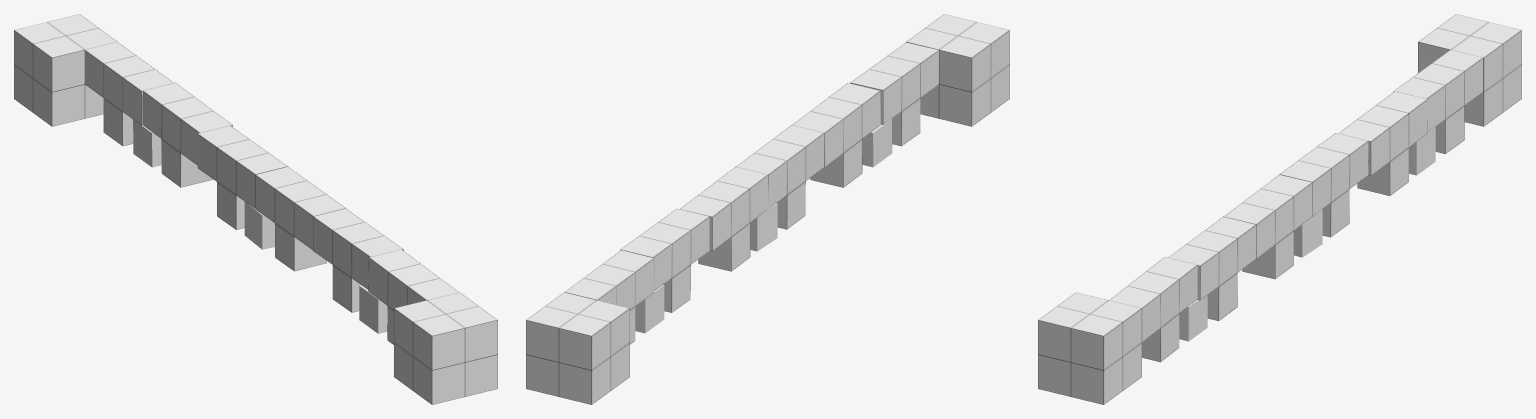
3 renders of one model, left to right at view 1: azimuth 30°, elevation 25°; view 2: azimuth 150°, elevation 25°; view 3: azimuth 330°, elevation 25°, orthographic.
Visible parts, largest first — view 1: Plane/BasicEnvironment/StartCube-1, Plane/BasicEnvironment/StartCube-2, GridTShape_0:5, GridTShape_0:1, GridTShape_0, GridTShape_0:2, GridTShape_0:4, GridTShape_0:3, GridSmallCube_0:1, GridSmallCube_0:2, GridSmallCube_0; view 2: Plane/BasicEnvironment/StartCube-2, Plane/BasicEnvironment/StartCube-1, GridTShape_0:2, GridTShape_0:4, GridTShape_0:3, GridTShape_0:5, GridTShape_0:1, GridTShape_0, GridSmallCube_0:2, GridSmallCube_0, GridSmallCube_0:1; view 3: Plane/BasicEnvironment/StartCube-1, Plane/BasicEnvironment/StartCube-2, GridTShape_0:1, GridTShape_0:5, GridTShape_0:3, GridTShape_0:4, GridTShape_0, GridTShape_0:2, GridSmallCube_0:2, GridSmallCube_0:1, GridSmallCube_0.
Part boxes in pixels (left/top/right/bottom): Plane/BasicEnvironment/StartCube-1: left=394, top=292, right=497, bottom=404; Plane/BasicEnvironment/StartCube-2: left=14, top=14, right=117, bottom=126; GridTShape_0:5: left=255, top=166, right=346, bottom=271; GridTShape_0:1: left=142, top=82, right=232, bottom=187; GridTShape_0: left=84, top=41, right=173, bottom=145; GridTShape_0:2: left=197, top=125, right=287, bottom=229; GridTShape_0:4: left=313, top=208, right=403, bottom=312; GridTShape_0:3: left=368, top=249, right=458, bottom=344; GridSmallCube_0:1: left=244, top=202, right=274, bottom=249; GridSmallCube_0:2: left=359, top=285, right=387, bottom=333; GridSmallCube_0: left=133, top=119, right=161, bottom=167; Plane/BasicEnvironment/StartCube-2: left=526, top=292, right=629, bottom=404; Plane/BasicEnvironment/StartCube-1: left=906, top=14, right=1009, bottom=126; GridTShape_0:2: left=679, top=166, right=768, bottom=271; GridTShape_0:4: left=792, top=83, right=880, bottom=187; GridTShape_0:3: left=850, top=42, right=939, bottom=146; GridTShape_0:5: left=736, top=125, right=824, bottom=229; GridTShape_0:1: left=620, top=208, right=709, bottom=312; GridTShape_0: left=564, top=250, right=654, bottom=344; GridSmallCube_0:2: left=862, top=119, right=892, bottom=167; GridSmallCube_0: left=635, top=285, right=664, bottom=333; GridSmallCube_0:1: left=750, top=203, right=777, bottom=251; Plane/BasicEnvironment/StartCube-1: left=1038, top=292, right=1141, bottom=404; Plane/BasicEnvironment/StartCube-2: left=1418, top=14, right=1521, bottom=126; GridTShape_0:1: left=1338, top=91, right=1427, bottom=195; GridTShape_0:5: left=1223, top=174, right=1312, bottom=279; GridTShape_0:3: left=1109, top=257, right=1197, bottom=362; GridTShape_0:4: left=1168, top=217, right=1256, bottom=320; GridTShape_0: left=1393, top=49, right=1483, bottom=153; GridTShape_0:2: left=1279, top=133, right=1368, bottom=237; GridSmallCube_0:2: left=1179, top=295, right=1207, bottom=341; GridSmallCube_0:1: left=1294, top=209, right=1322, bottom=257; GridSmallCube_0: left=1409, top=127, right=1435, bottom=175.
Bounding box in the file's own units: 0.2038 × 0.2044 × 2.2.
